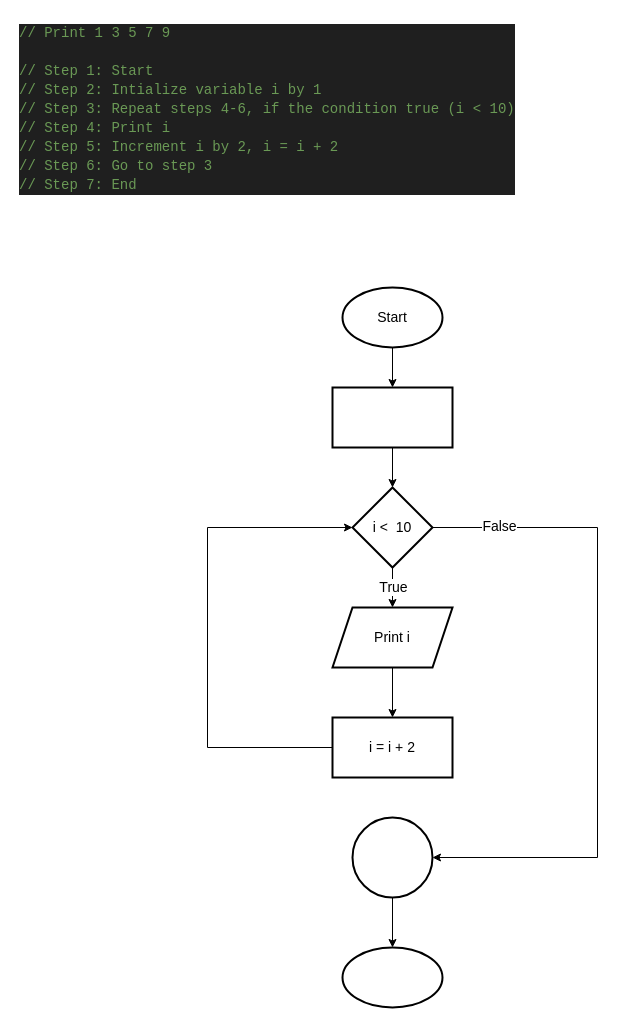
The diagram is 623 pixels wide and 1025 high, and some of its shapes have lost their labels. Here are the shapes that lost their labels. From the top down, the centre of each, then its label:
At pixel 392 417: "int i = 1".
At pixel 392 977: "End".
